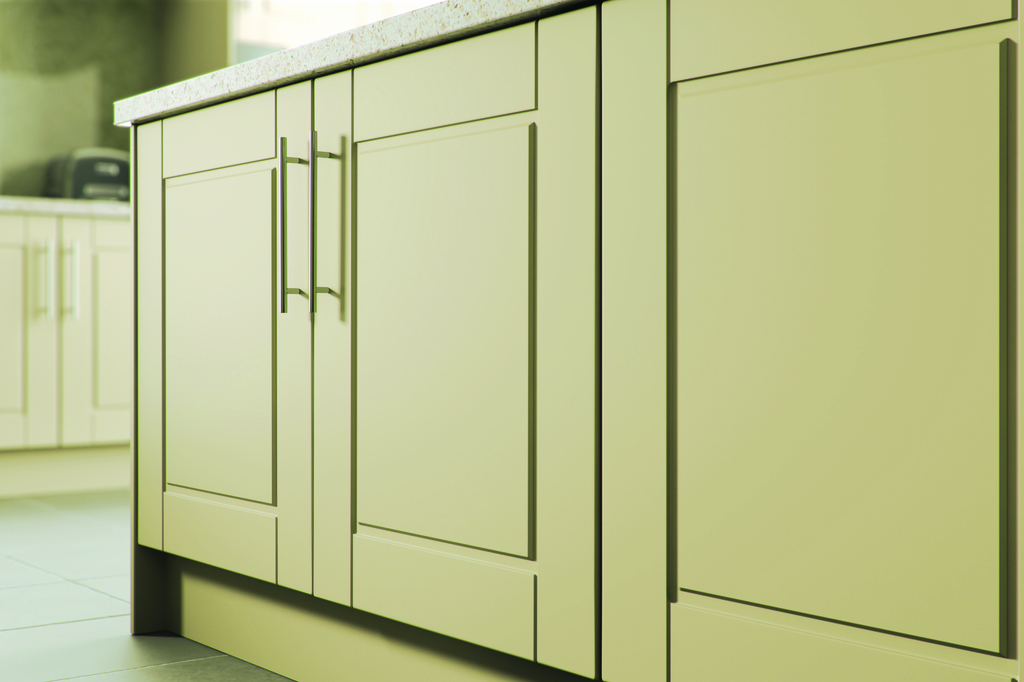cabinet door: (637, 33, 1018, 681), (314, 90, 587, 634), (137, 124, 310, 566), (67, 236, 141, 421), (6, 215, 65, 444)
handle: (255, 127, 298, 313), (301, 134, 340, 319), (30, 241, 50, 321), (61, 239, 81, 314)
